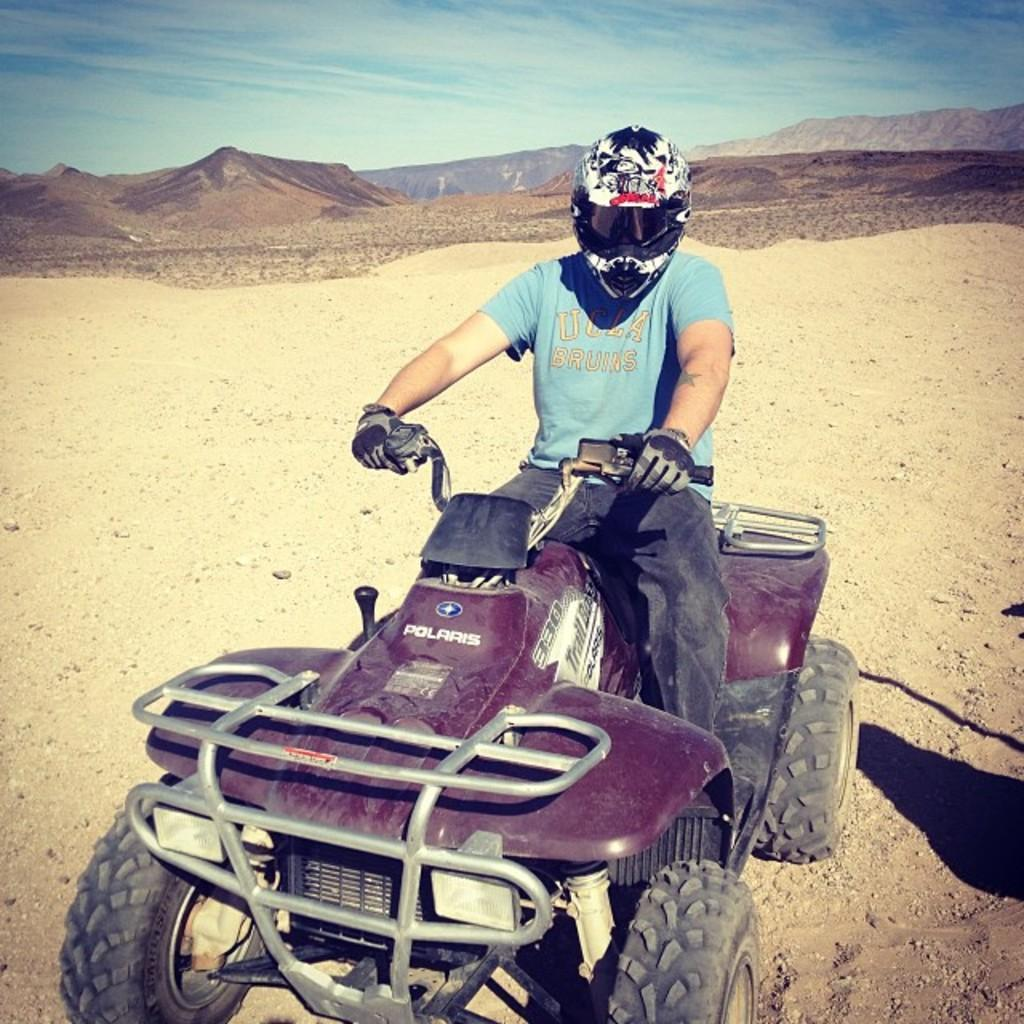helmet: (570, 124, 693, 301)
